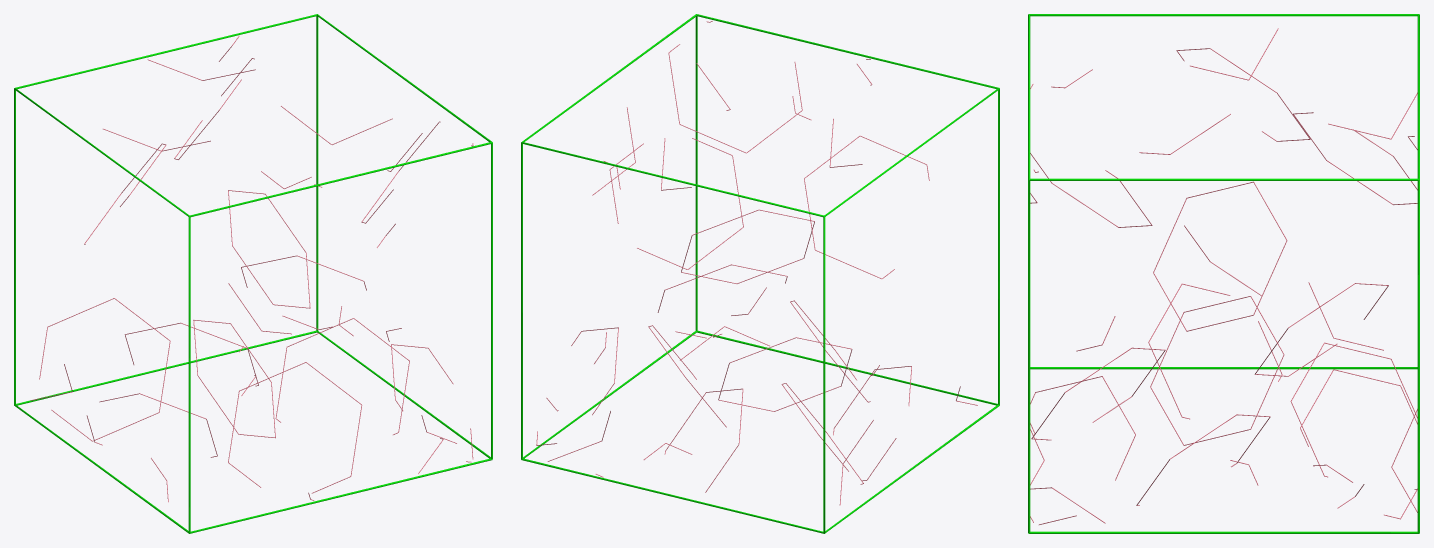
3 views of the same model, side by side, from view 1: azimuth 30°, elevation 25°; view 2: azimuth 150°, elevation 25°; view 3: azimuth 270°, elevation 25° (orthographic). The views are drawn at different scales.
Visible parts, largest first — view 1: Shape_IndexedLineSet, Shape_IndexedLineSet.001; view 2: Shape_IndexedLineSet, Shape_IndexedLineSet.001; view 3: Shape_IndexedLineSet, Shape_IndexedLineSet.001.
Part boxes in pixels (bbox=[...]): Shape_IndexedLineSet: bbox=[14, 14, 492, 533]; Shape_IndexedLineSet.001: bbox=[30, 35, 473, 502]; Shape_IndexedLineSet: bbox=[521, 14, 999, 533]; Shape_IndexedLineSet.001: bbox=[536, 21, 977, 505]; Shape_IndexedLineSet: bbox=[1028, 14, 1419, 533]; Shape_IndexedLineSet.001: bbox=[1030, 28, 1417, 524].
Bounding box in the file's own units: 10.06 × 10.06 × 10.06.
